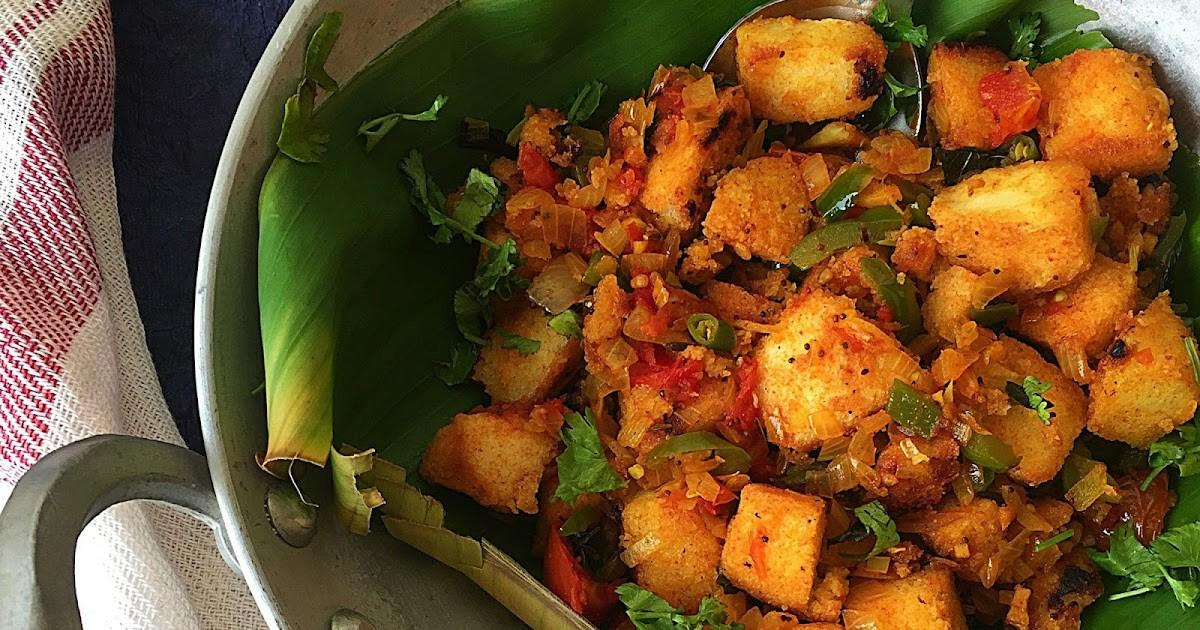AlooMasala: (423, 15, 1200, 630)
